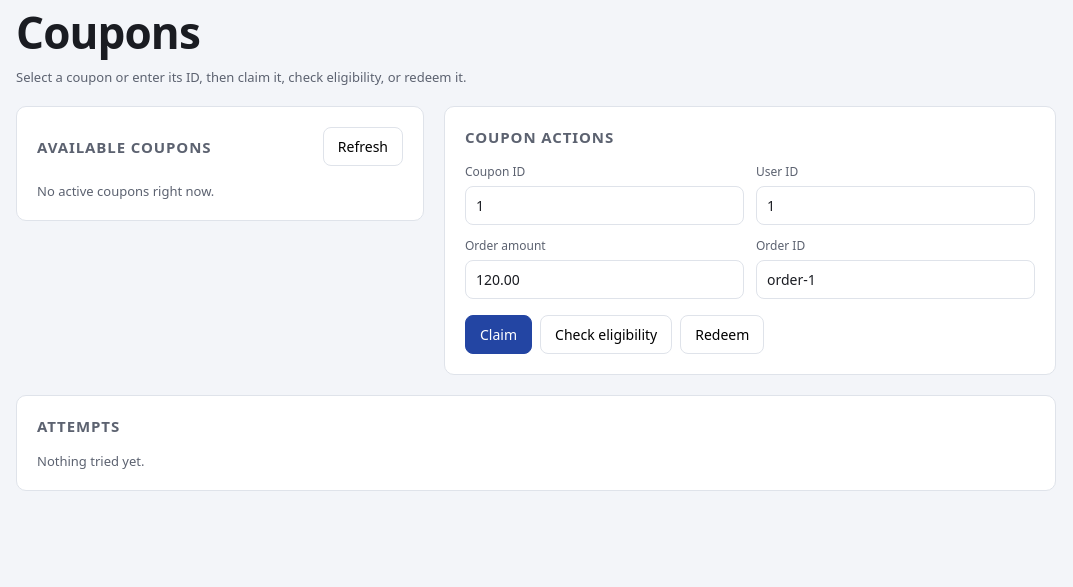
Test: App › separates a transport failure from a business one
The width and height of the screenshot is (1073, 587).
Click the button "Redeem" at (722, 334), box [680,315,764,354]
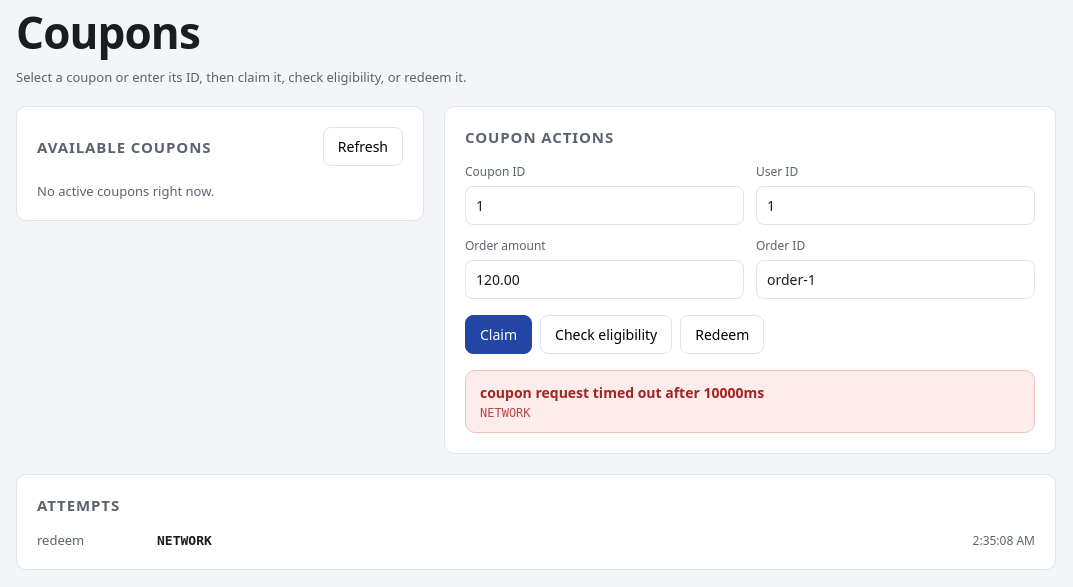
Expected: the text "coupon request timed out after 10000ms" is shown, [480,383,764,402]
Expected: the text "NETWORK" below "coupon request timed out after 10000ms" is shown, [480,406,531,420]
